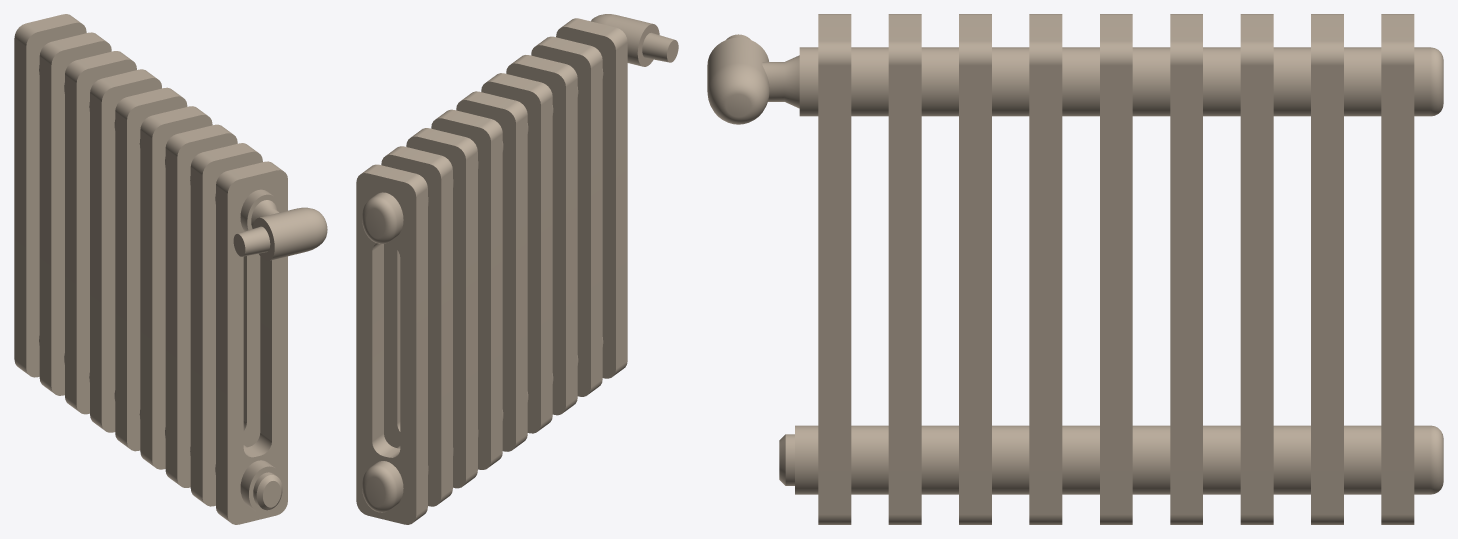
The model's file is Radiateur3_3.fbx.
3 views of the same model, side by side, from view 1: azimuth 30°, elevation 25°; view 2: azimuth 150°, elevation 25°; view 3: azimuth 270°, elevation 25° (orthographic). The views are drawn at different scales.
Parts seen in each view (by area): view 1: pCube1873, pCube1875, pCube1881, pCube1876, pCube1882, pCube1877, pCube1878, pCube1879, pCube1880, pCylinder693, pCylinder692, pCylinder690; view 2: pCube1882, pCube1881, pCube1873, pCube1878, pCube1877, pCube1876, pCube1875, pCube1879, pCube1880, pCylinder693, pCylinder692, pCylinder690; view 3: pCylinder690, pCylinder692, pCube1882, pCube1880, pCube1877, pCube1875, pCube1873, pCube1881, pCube1879, pCube1878, pCube1876, pCylinder693.
Boxes of the visible parts, bbox=[...] form: pCube1873: bbox=[216, 161, 287, 524]; pCube1875: bbox=[190, 143, 262, 506]; pCube1881: bbox=[39, 32, 111, 395]; pCube1876: bbox=[165, 124, 237, 487]; pCube1882: bbox=[14, 14, 86, 377]; pCube1877: bbox=[140, 106, 212, 469]; pCube1878: bbox=[115, 87, 187, 451]; pCube1879: bbox=[90, 69, 161, 432]; pCube1880: bbox=[65, 51, 136, 414]; pCylinder693: bbox=[233, 207, 327, 260]; pCylinder692: bbox=[39, 336, 283, 513]; pCylinder690: bbox=[39, 65, 281, 231]; pCube1882: bbox=[356, 164, 427, 524]; pCube1881: bbox=[381, 146, 452, 506]; pCube1873: bbox=[556, 18, 627, 378]; pCube1878: bbox=[456, 91, 527, 451]; pCube1877: bbox=[481, 73, 552, 433]; pCube1876: bbox=[506, 55, 577, 415]; pCube1875: bbox=[531, 36, 602, 396]; pCube1879: bbox=[431, 109, 502, 469]; pCube1880: bbox=[406, 128, 477, 488]; pCylinder693: bbox=[591, 14, 678, 66]; pCylinder692: bbox=[362, 337, 603, 512]; pCylinder690: bbox=[362, 69, 603, 243]; pCylinder690: bbox=[762, 47, 1443, 116]; pCylinder692: bbox=[779, 425, 1443, 494]; pCube1882: bbox=[1381, 14, 1414, 524]; pCube1880: bbox=[1240, 14, 1273, 524]; pCube1877: bbox=[1029, 14, 1062, 524]; pCube1875: bbox=[888, 14, 921, 524]; pCube1873: bbox=[818, 14, 851, 524]; pCube1881: bbox=[1311, 14, 1343, 524]; pCube1879: bbox=[1170, 14, 1202, 524]; pCube1878: bbox=[1100, 14, 1132, 524]; pCube1876: bbox=[959, 14, 991, 524]; pCylinder693: bbox=[707, 34, 769, 124].
Bounding box in the file's own units: 10.4 × 41.58 × 57.54.
